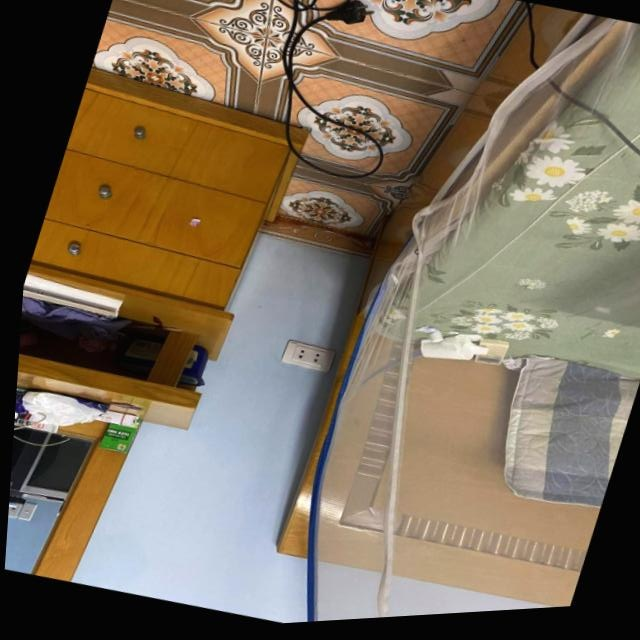outlet: (278, 337, 337, 377)
